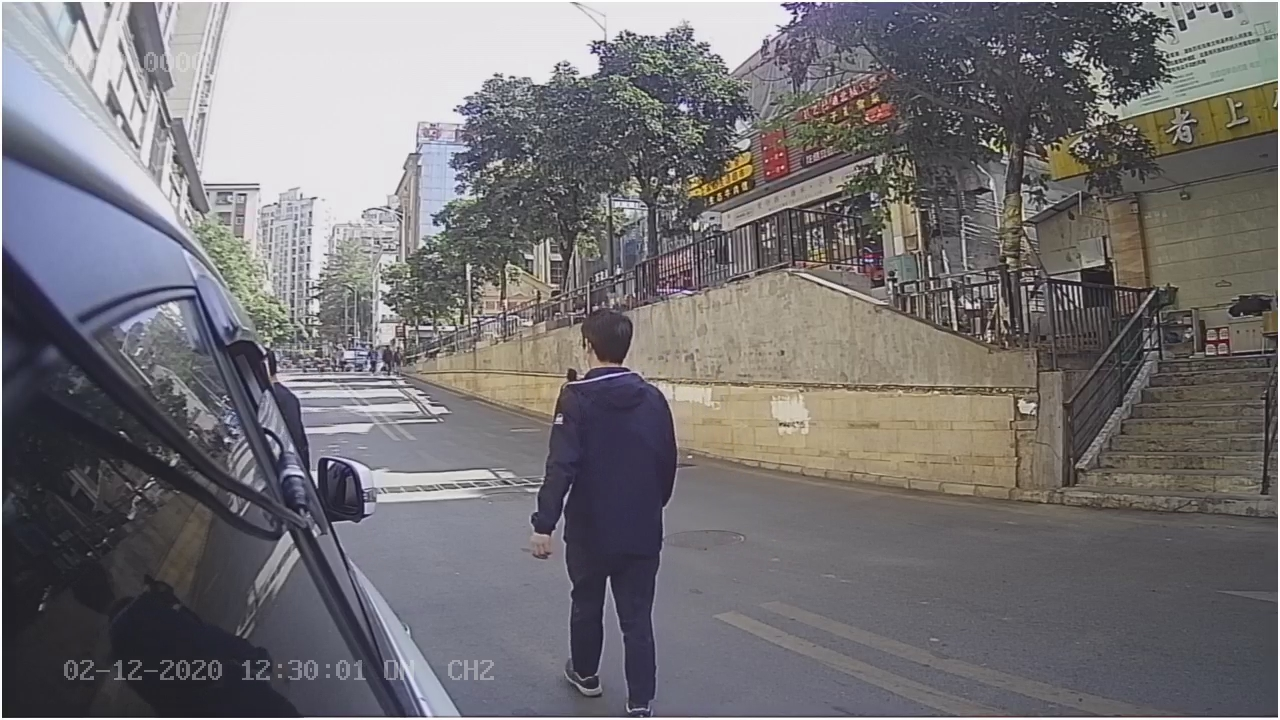person: (524, 298, 682, 561)
